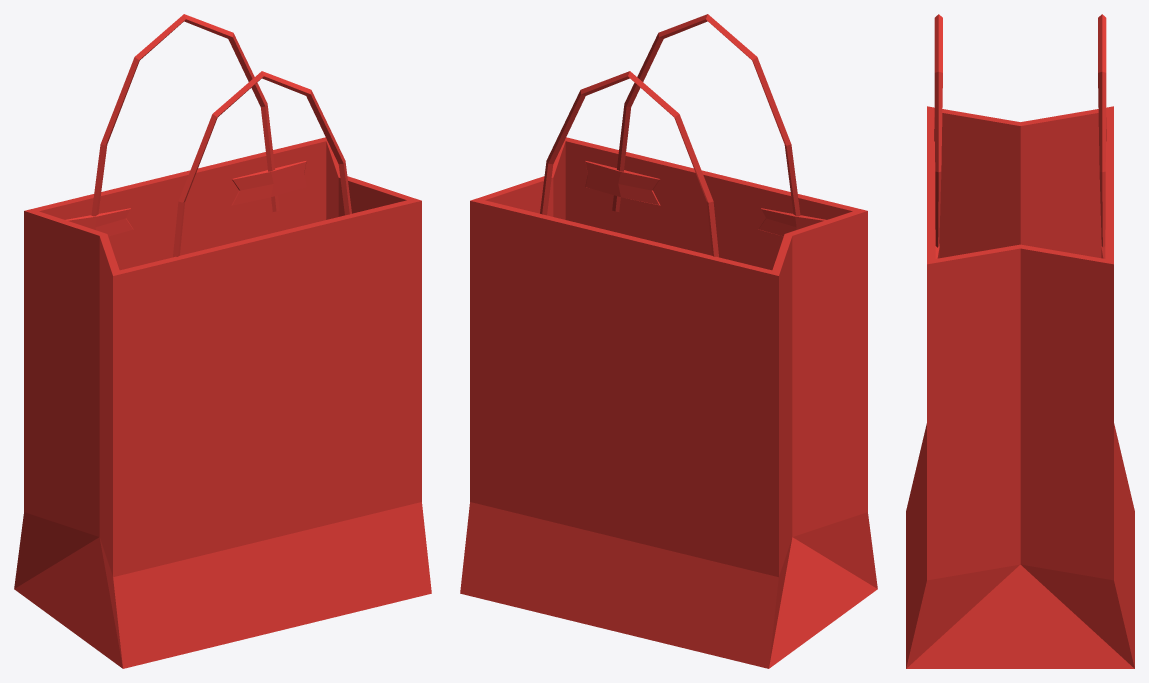
File: SM_Bag_Gift_Christmas_B.fbx
The picture shows the model from 3 angles, left to right: view 1: azimuth 30°, elevation 25°; view 2: azimuth 150°, elevation 25°; view 3: azimuth 270°, elevation 25°; orthographic projection. The views are drawn at different scales.
Parts seen in each view (by area): view 1: bag-gift-christmas-b; view 2: bag-gift-christmas-b; view 3: bag-gift-christmas-b.
Part boxes in pixels (bbox=[...]): bag-gift-christmas-b: bbox=[14, 14, 431, 668]; bag-gift-christmas-b: bbox=[460, 14, 877, 668]; bag-gift-christmas-b: bbox=[906, 14, 1134, 668].
Size of the model in its own units: 0.2353 by 0.3997 by 0.1438.
